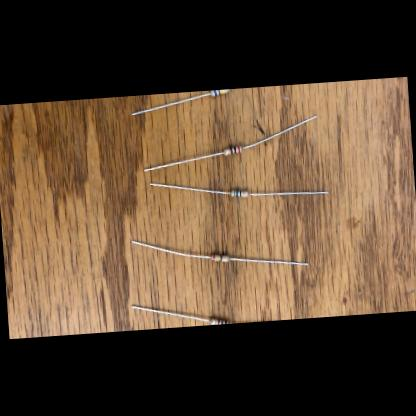resistor: (222, 146, 242, 156), (209, 254, 230, 263), (228, 188, 246, 198), (210, 318, 228, 325), (210, 90, 228, 96)
wire: (239, 117, 317, 149), (132, 236, 209, 264), (131, 301, 208, 328), (130, 93, 211, 116), (149, 179, 228, 200), (142, 152, 224, 172), (229, 253, 307, 271), (248, 188, 326, 198)
